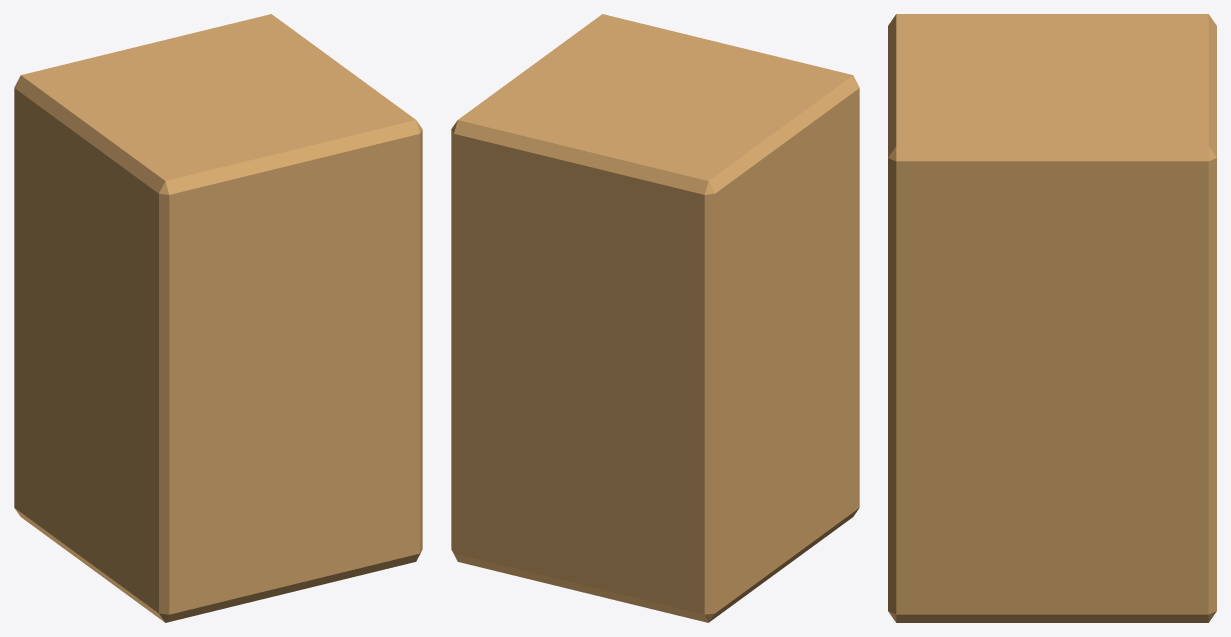
The model's file is pillar_beech.glb.
3 renders of one model, left to right at view 1: azimuth 30°, elevation 25°; view 2: azimuth 150°, elevation 25°; view 3: azimuth 270°, elevation 25°, orthographic. The views are drawn at different scales.
Visible parts, largest first — view 1: Block.006; view 2: Block.006; view 3: Block.006.
Part boxes in pixels (x1,y1,x2,y2): Block.006: [14, 14, 422, 622]; Block.006: [451, 14, 859, 622]; Block.006: [888, 14, 1216, 622].
Bounding box in the file's own units: 1 × 1.6 × 1.
